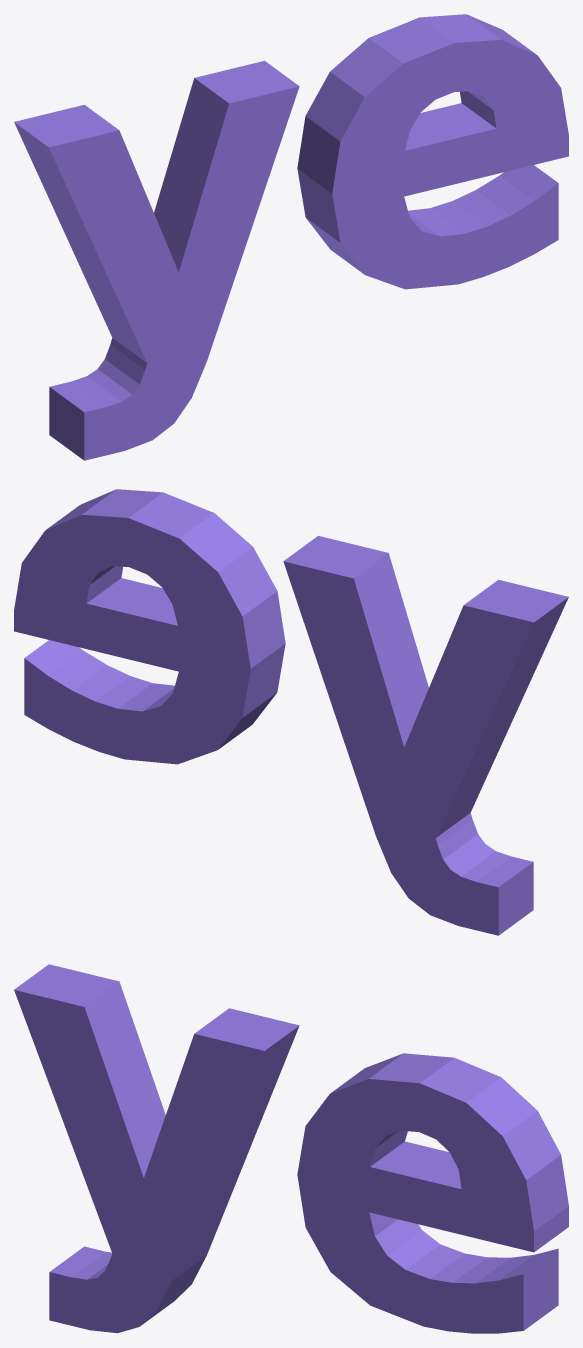
The model's file is suku_kecil_ye.glb.
The picture shows the model from 3 angles, top to bottom: view 1: azimuth 30°, elevation 25°; view 2: azimuth 150°, elevation 25°; view 3: azimuth 330°, elevation 25°; orthographic projection.
Visible parts, largest first — view 1: geometry_0; view 2: geometry_0; view 3: geometry_0.
Boxes of the visible parts, x1,y1,x2,y2 form: geometry_0: (14,14,568,460); geometry_0: (14,489,568,935); geometry_0: (14,964,568,1333).
Bounding box in the file's own units: 12.89 × 7.76 × 1.5.
